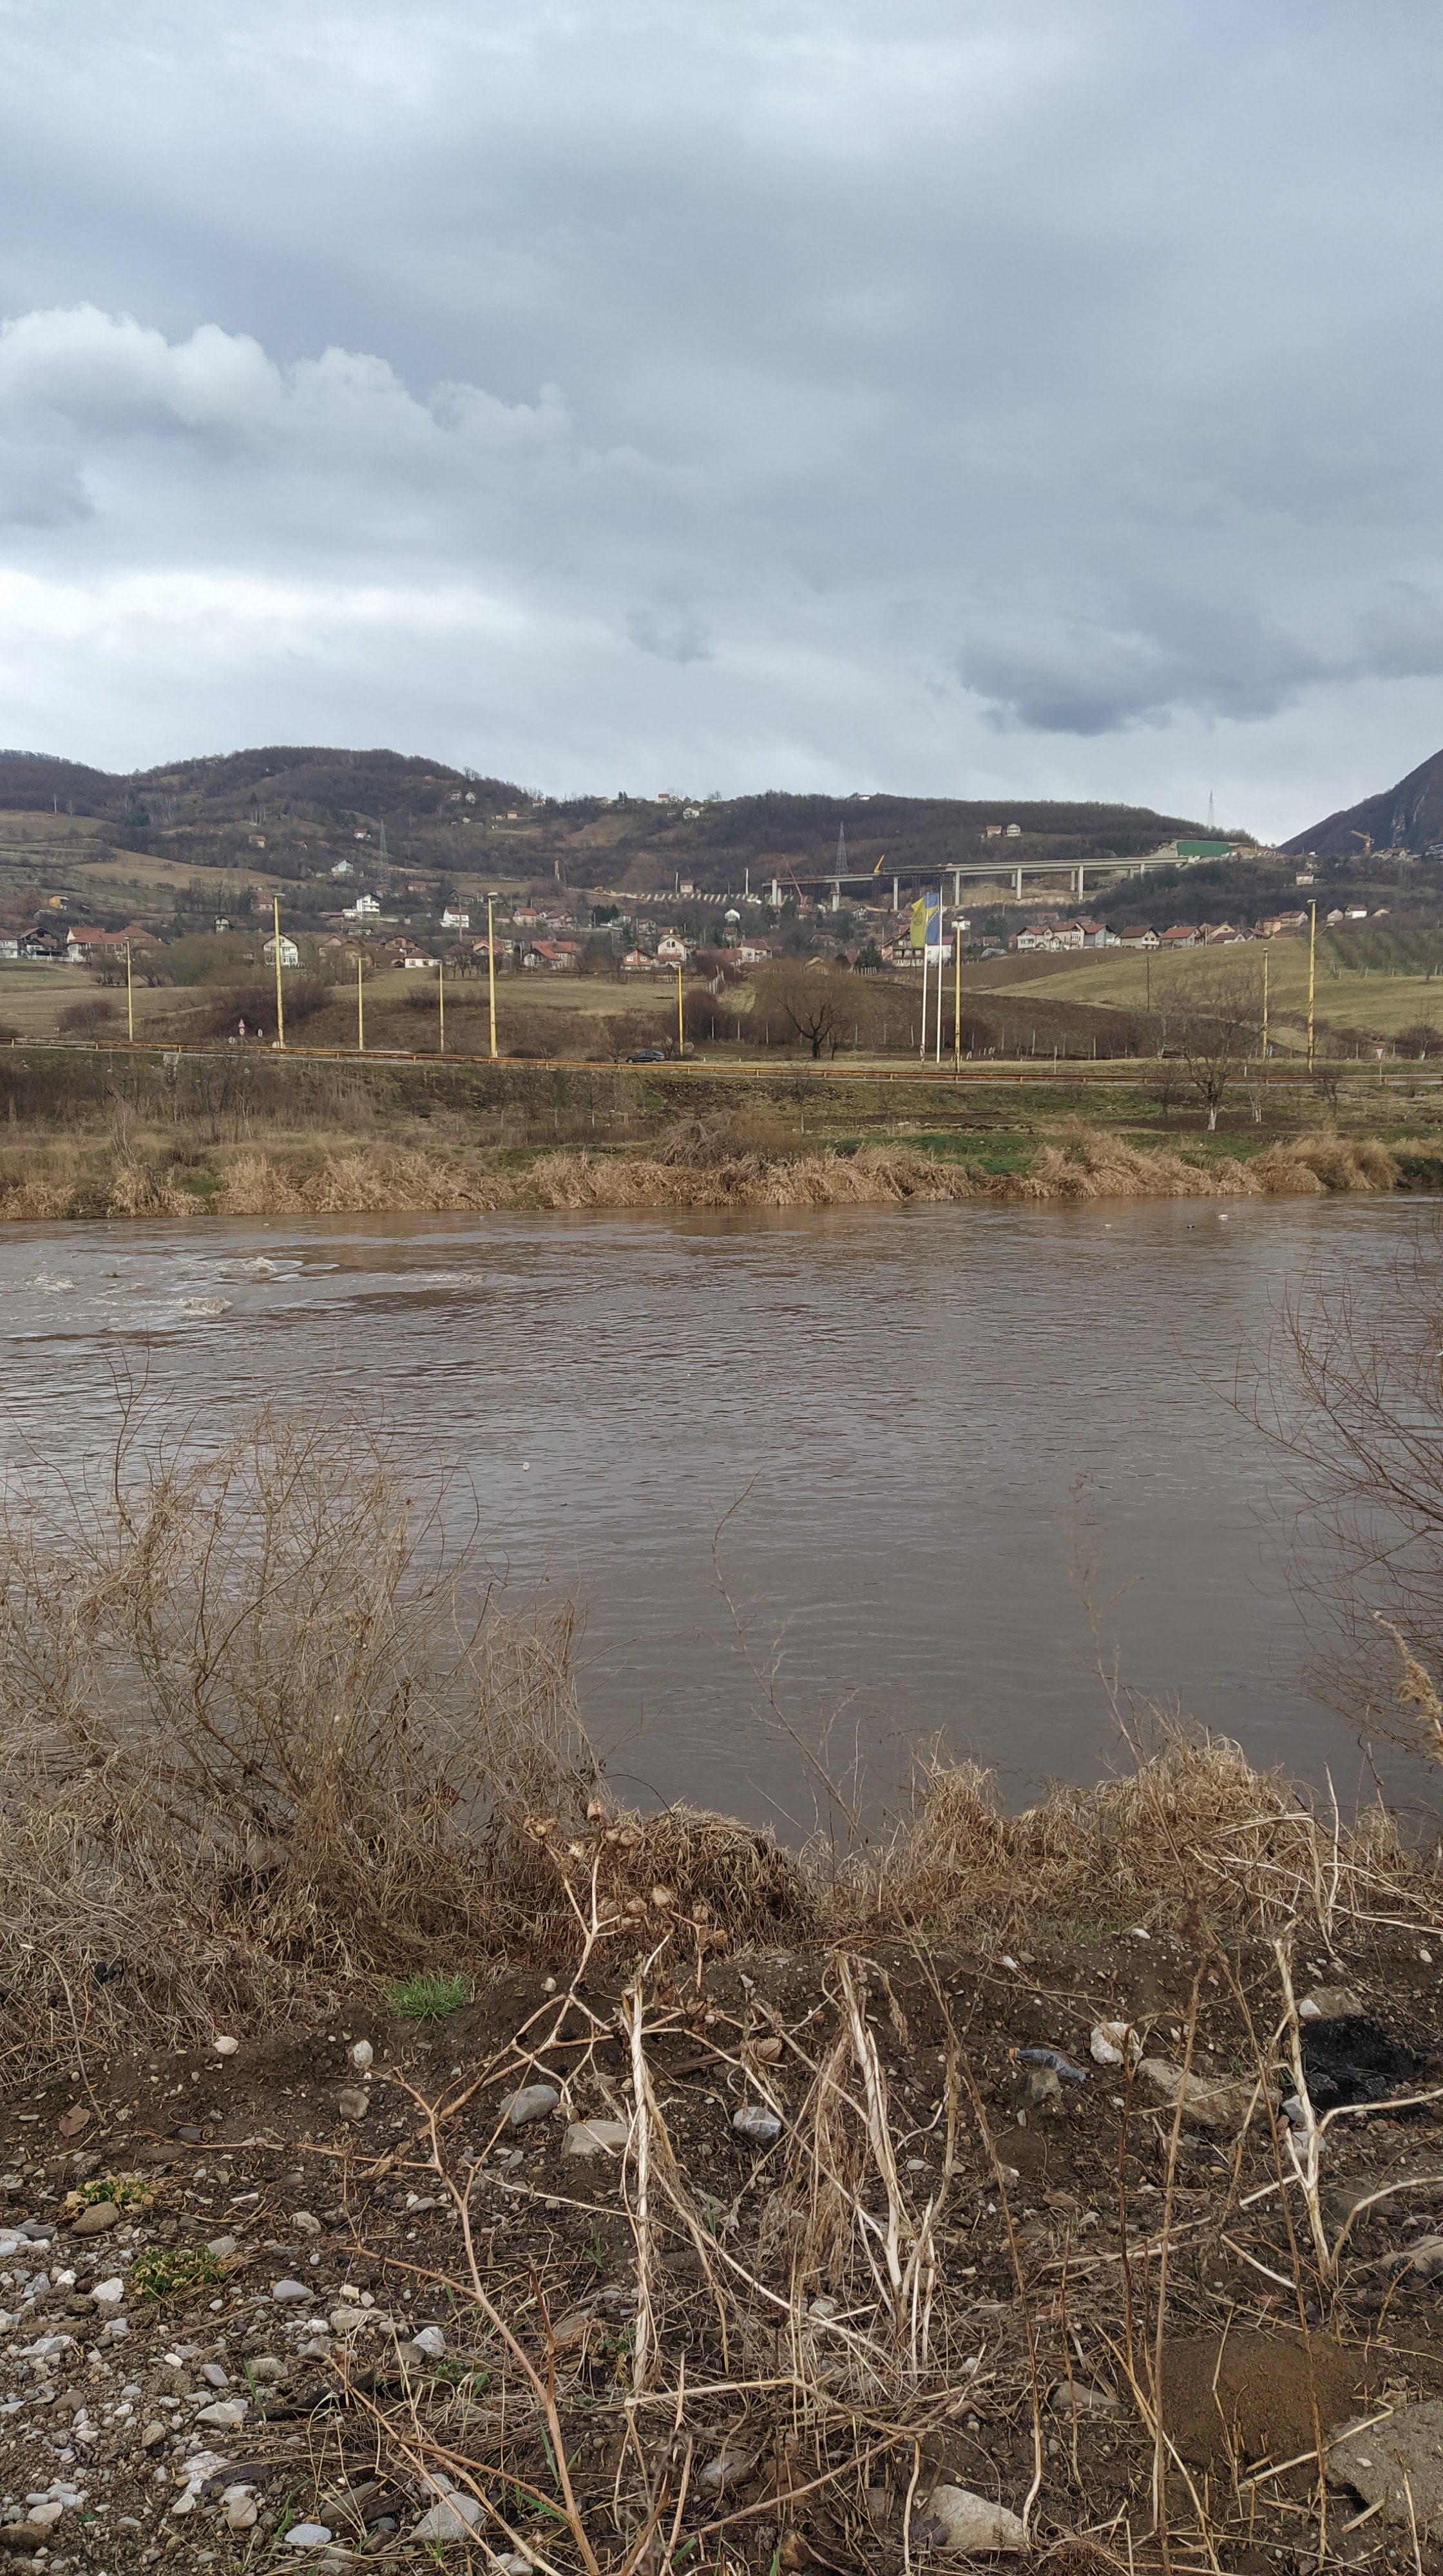Plastic Bottle: (522, 1461, 529, 1470), (1218, 1214, 1227, 1217), (480, 1215, 483, 1219), (1186, 1226, 1193, 1228), (266, 1223, 267, 1224), (1107, 1224, 1108, 1226)
